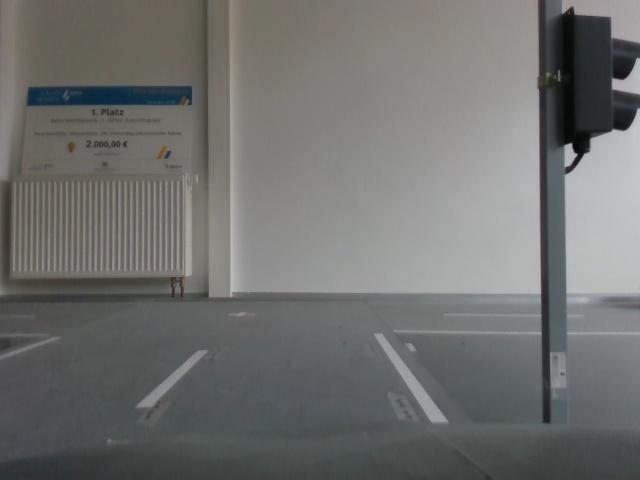traffic light: (539, 8, 640, 154)
